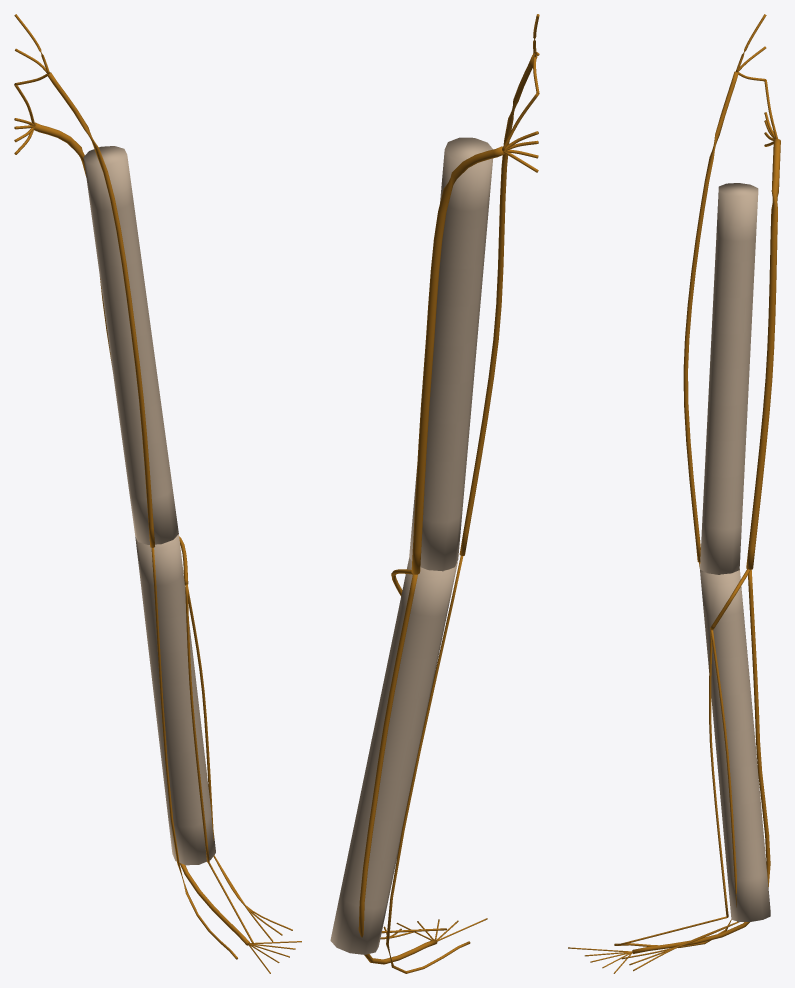
The model's file is leg-nerves-60edf433.glb.
3 views of the same model, side by side, from view 1: azimuth 30°, elevation 25°; view 2: azimuth 150°, elevation 25°; view 3: azimuth 270°, elevation 25° (orthographic). The views are drawn at different scales.
Parts seen in each view (by area): view 1: Limb orientation core, Limb orientation core.001, Left femoral nerve L2-L4, Left saphenous sensory branch, Left deep fibular anterior calf nerve, Left superficial fibular lateral calf nerve; view 2: Limb orientation core, Limb orientation core.001, Left sciatic nerve L4-S3, Left femoral nerve L2-L4, Left tibial nerve, Left saphenous sensory branch; view 3: Limb orientation core, Limb orientation core.001, Left sciatic nerve L4-S3, Left femoral nerve L2-L4, Left tibial nerve, Left superficial fibular lateral calf nerve, Left deep fibular anterior calf nerve.
Boxes of the visible parts, x1=… form: Limb orientation core: x1=83, y1=146, x2=178, y2=544; Limb orientation core.001: x1=135, y1=534, x2=215, y2=865; Left femoral nerve L2-L4: x1=47, y1=72, x2=154, y2=547; Left saphenous sensory branch: x1=151, y1=547, x2=237, y2=959; Left deep fibular anterior calf nerve: x1=185, y1=584, x2=209, y2=862; Left superficial fibular lateral calf nerve: x1=185, y1=584, x2=213, y2=840; Limb orientation core: x1=409, y1=137, x2=492, y2=571; Limb orientation core.001: x1=330, y1=558, x2=457, y2=954; Left sciatic nerve L4-S3: x1=411, y1=146, x2=504, y2=574; Left femoral nerve L2-L4: x1=459, y1=55, x2=537, y2=555; Left tibial nerve: x1=358, y1=574, x2=437, y2=964; Left saphenous sensory branch: x1=386, y1=555, x2=470, y2=973; Limb orientation core: x1=700, y1=183, x2=758, y2=574; Limb orientation core.001: x1=700, y1=569, x2=770, y2=921; Left sciatic nerve L4-S3: x1=746, y1=139, x2=780, y2=569; Left femoral nerve L2-L4: x1=683, y1=71, x2=738, y2=562; Left tibial nerve: x1=632, y1=569, x2=770, y2=953; Left superficial fibular lateral calf nerve: x1=710, y1=629, x2=739, y2=922; Left deep fibular anterior calf nerve: x1=709, y1=630, x2=728, y2=917.
Bounding box in the file's own units: 0.2509 × 1.06 × 0.2355.
Materials: 2 (2 with a texture image).
